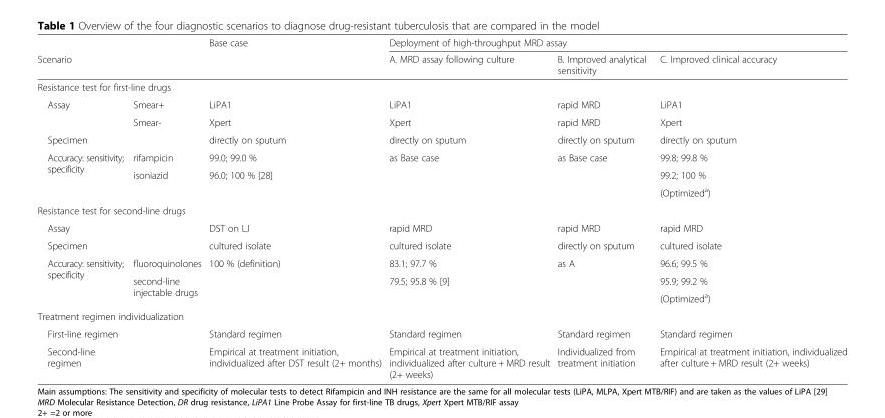table: (36, 36, 846, 379)
table column: (652, 36, 846, 379), (204, 36, 384, 379), (384, 36, 553, 379), (553, 36, 652, 379), (36, 36, 127, 379), (127, 36, 204, 379)
table column header: (36, 36, 846, 78)
table projected row header: (36, 78, 846, 95), (36, 201, 846, 218), (36, 307, 846, 324)
table row: (36, 342, 846, 379), (36, 50, 846, 78), (36, 182, 846, 201), (36, 288, 846, 307), (36, 95, 846, 113), (36, 130, 846, 148), (36, 218, 846, 236), (36, 236, 846, 254), (36, 324, 846, 342), (36, 78, 846, 95), (36, 113, 846, 130), (36, 148, 846, 165), (36, 165, 846, 182), (36, 201, 846, 218), (36, 254, 846, 271), (36, 271, 846, 288), (36, 307, 846, 324), (36, 36, 846, 50)
table spanning cell: (204, 254, 384, 307), (384, 148, 553, 201), (204, 36, 384, 78), (204, 165, 384, 201), (384, 36, 846, 50), (384, 271, 553, 307), (553, 148, 652, 201), (553, 254, 652, 307), (36, 148, 127, 201), (36, 254, 127, 307), (36, 36, 127, 78), (36, 95, 127, 130), (127, 165, 204, 201), (127, 271, 204, 307)
